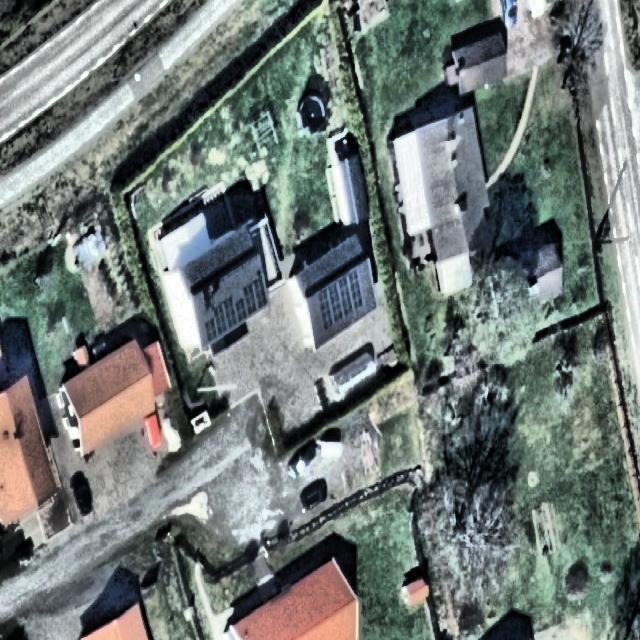roof_pv: (203, 266, 270, 340), (316, 265, 367, 334)
